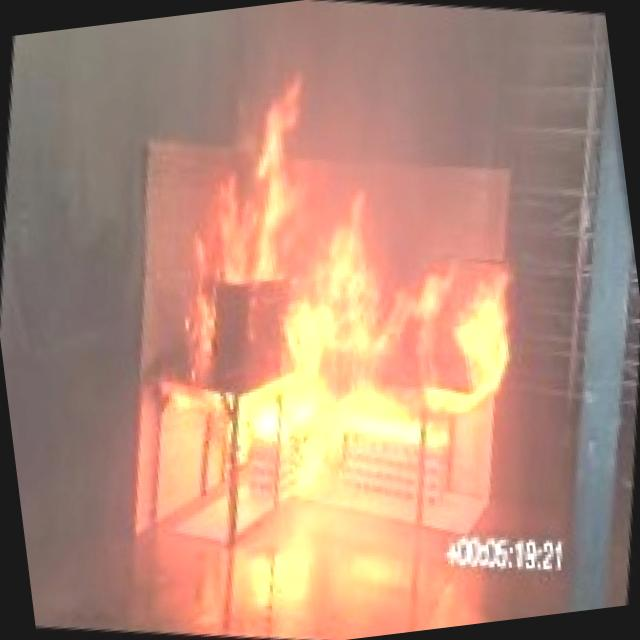fire: (46, 5, 631, 630)
